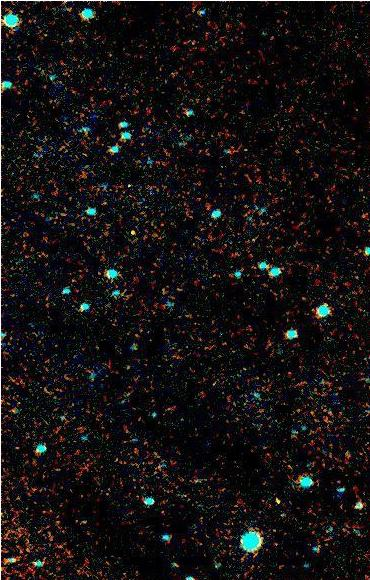star: (118, 219, 148, 249)
